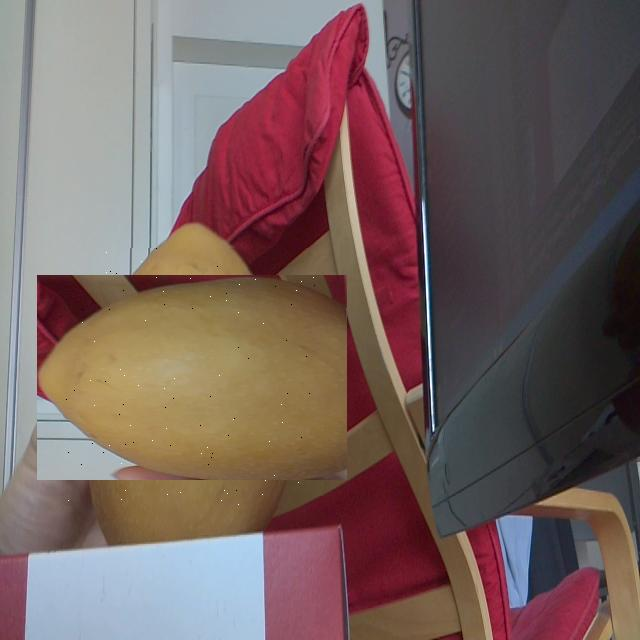pear: (64, 248, 322, 506)
